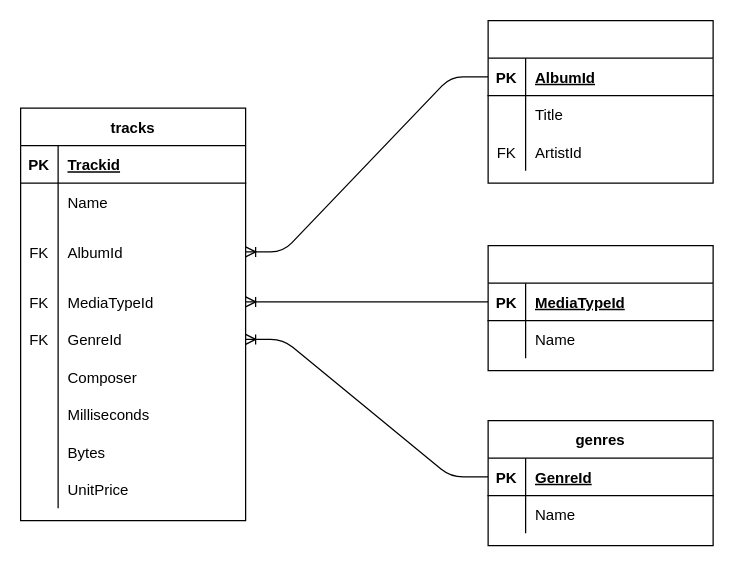
Some shapes in this 734 by 566 pixel diagram are drawn without their labels. Each missing label, with the box of its shape:
albums: (487, 19, 713, 183)
media_types: (487, 244, 713, 371)
